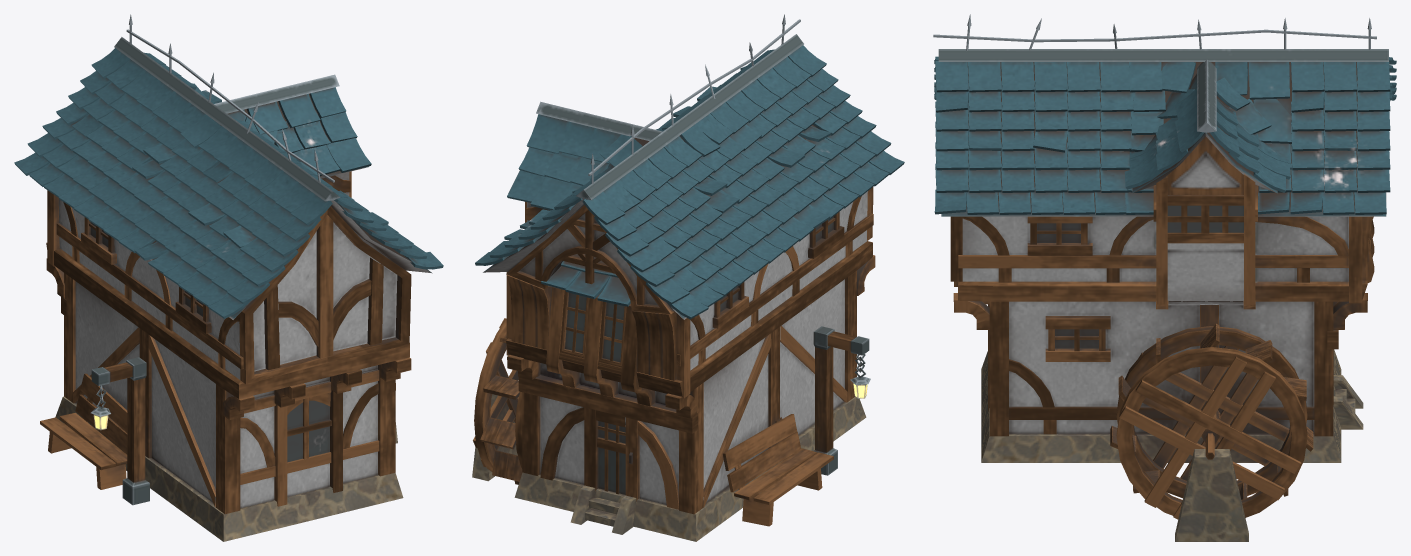
Rendered from watermill.glb.
3 views of the same model, side by side, from view 1: azimuth 30°, elevation 25°; view 2: azimuth 150°, elevation 25°; view 3: azimuth 270°, elevation 25° (orthographic). The views are drawn at different scales.
Parts seen in each view (by area): view 1: mill_04_low, mill_08_low, mill_06_low, mill_07_low, mill_05_low, mill_01_low, mill_02_low, mill_09_low; view 2: mill_04_low, mill_08_low, mill_06_low, mill_07_low, mill_01_low, mill_09_low, mill_05_low, mill_02_low, mill_03_low, mill_10_low; view 3: mill_04_low, mill_08_low, mill_06_low, mill_07_low, mill_03_low, mill_09_low, mill_05_low, mill_01_low, mill_02_low, mill_10_low.
Part boxes in pixels (x1,y1,x2,y2): mill_04_low: [14, 48, 443, 318]; mill_08_low: [54, 125, 432, 541]; mill_06_low: [47, 29, 411, 514]; mill_07_low: [40, 37, 379, 484]; mill_05_low: [72, 217, 225, 506]; mill_01_low: [46, 175, 411, 467]; mill_02_low: [48, 14, 339, 489]; mill_09_low: [61, 93, 368, 436]; mill_04_low: [475, 45, 904, 319]; mill_08_low: [472, 125, 872, 541]; mill_06_low: [506, 19, 873, 514]; mill_07_low: [480, 34, 873, 526]; mill_01_low: [507, 196, 875, 509]; mill_09_low: [506, 138, 697, 435]; mill_05_low: [596, 212, 869, 506]; mill_02_low: [506, 14, 870, 534]; mill_03_low: [474, 319, 522, 471]; mill_10_low: [506, 286, 682, 396]; mill_04_low: [934, 56, 1396, 214]; mill_08_low: [941, 62, 1386, 541]; mill_06_low: [933, 29, 1376, 436]; mill_07_low: [938, 49, 1388, 519]; mill_03_low: [1116, 326, 1307, 517]; mill_09_low: [1132, 96, 1373, 459]; mill_05_low: [998, 195, 1309, 434]; mill_01_low: [953, 185, 1374, 407]; mill_02_low: [966, 14, 1371, 443]; mill_10_low: [1200, 280, 1367, 408].
Size of the model in its own units: 11.54 by 13.31 by 12.83.
1 material, 1 textured.
